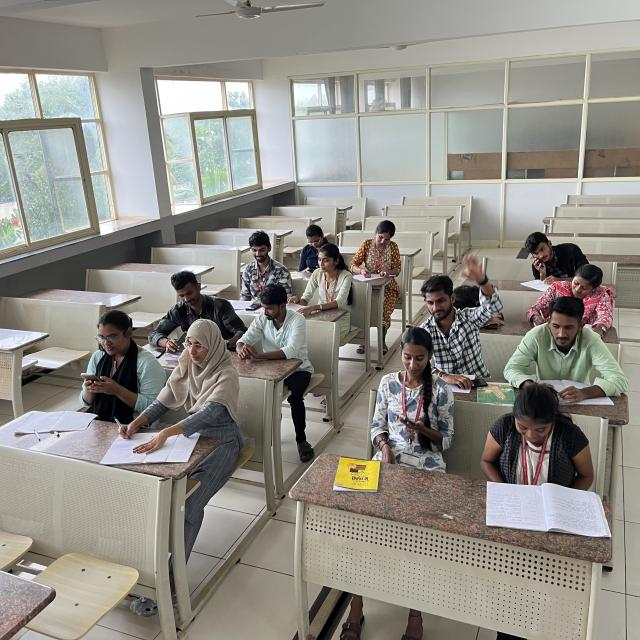Hand Rising: (415, 249, 499, 346)
Reading: (477, 383, 604, 504), (508, 220, 589, 287), (291, 243, 350, 319)
Using Phone: (365, 323, 460, 471), (76, 305, 153, 414), (293, 222, 343, 276)
Writing: (118, 315, 235, 463), (522, 266, 624, 328), (344, 213, 411, 296)
